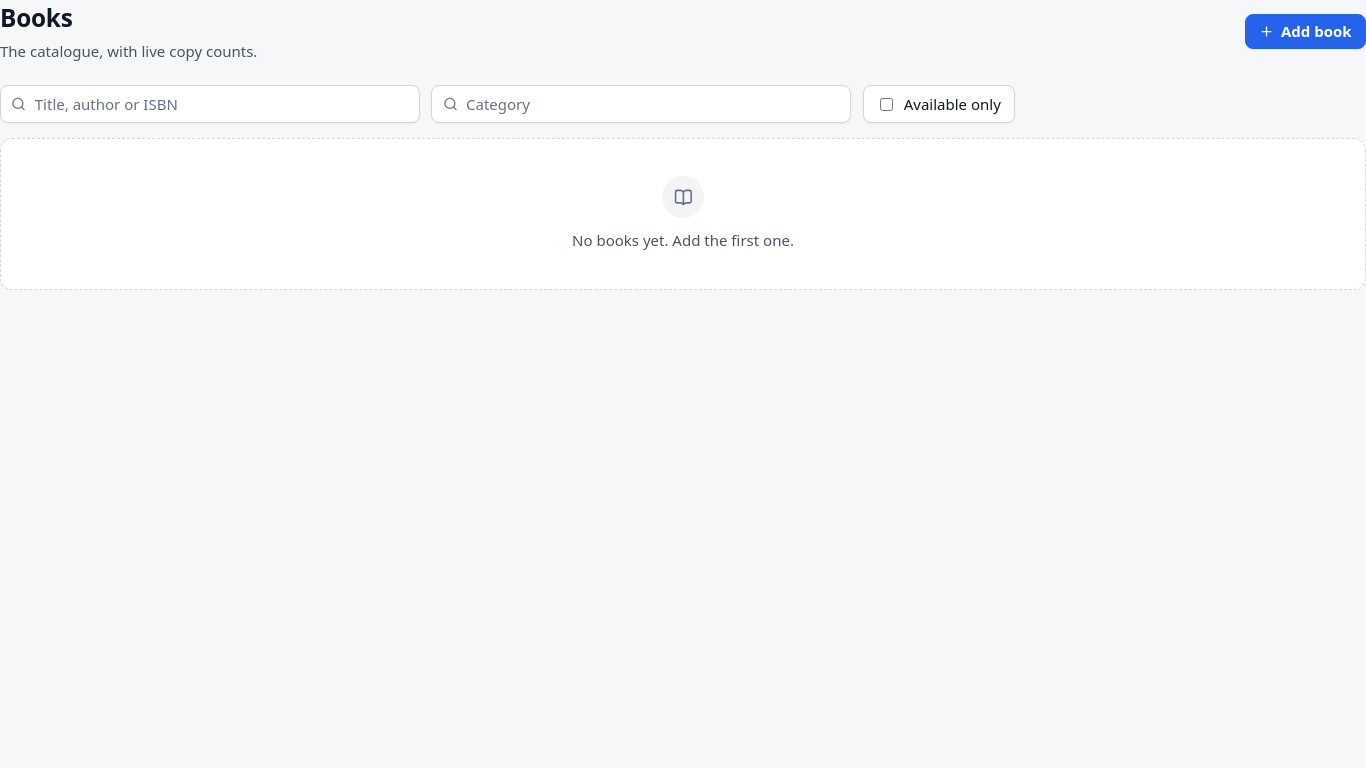
Test: BooksPage › opens the add form
Click the button "Add book": (1305, 31) [1245, 14, 1365, 49]
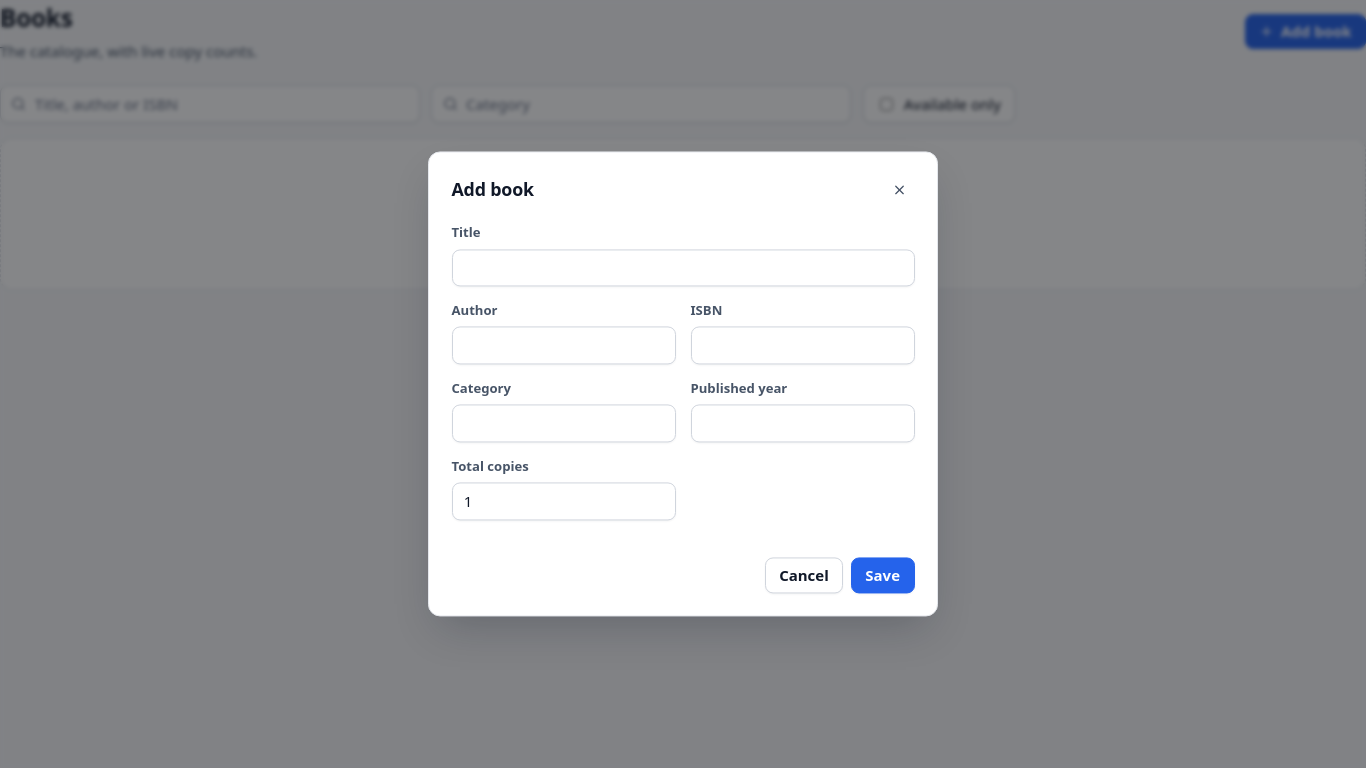
Now the dialog "Add book" is shown, box [428, 151, 938, 616]
